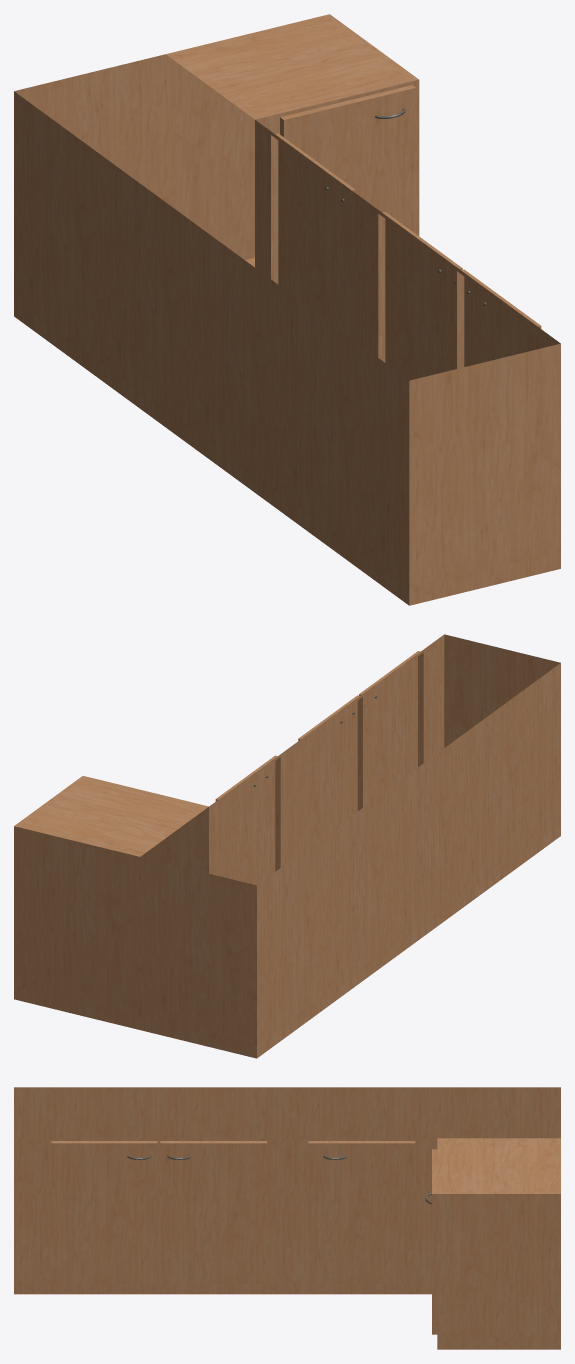
The model's file is Cabinet6.fbx.
3 renders of one model, top to bottom at view 1: azimuth 30°, elevation 25°; view 2: azimuth 150°, elevation 25°; view 3: azimuth 270°, elevation 25°, orthographic. The views are drawn at different scales.
Parts seen in each view (by area): view 1: polySurface1173; view 2: polySurface1173; view 3: polySurface1173.
Boxes of the visible parts, <box> form: polySurface1173: <box>14,14,560,605</box>; polySurface1173: <box>14,634,560,1058</box>; polySurface1173: <box>14,1087,560,1349</box>.
Bounding box in the file's own units: 1.29 × 0.88 × 2.8.
Materials: 1 (1 with a texture image).
